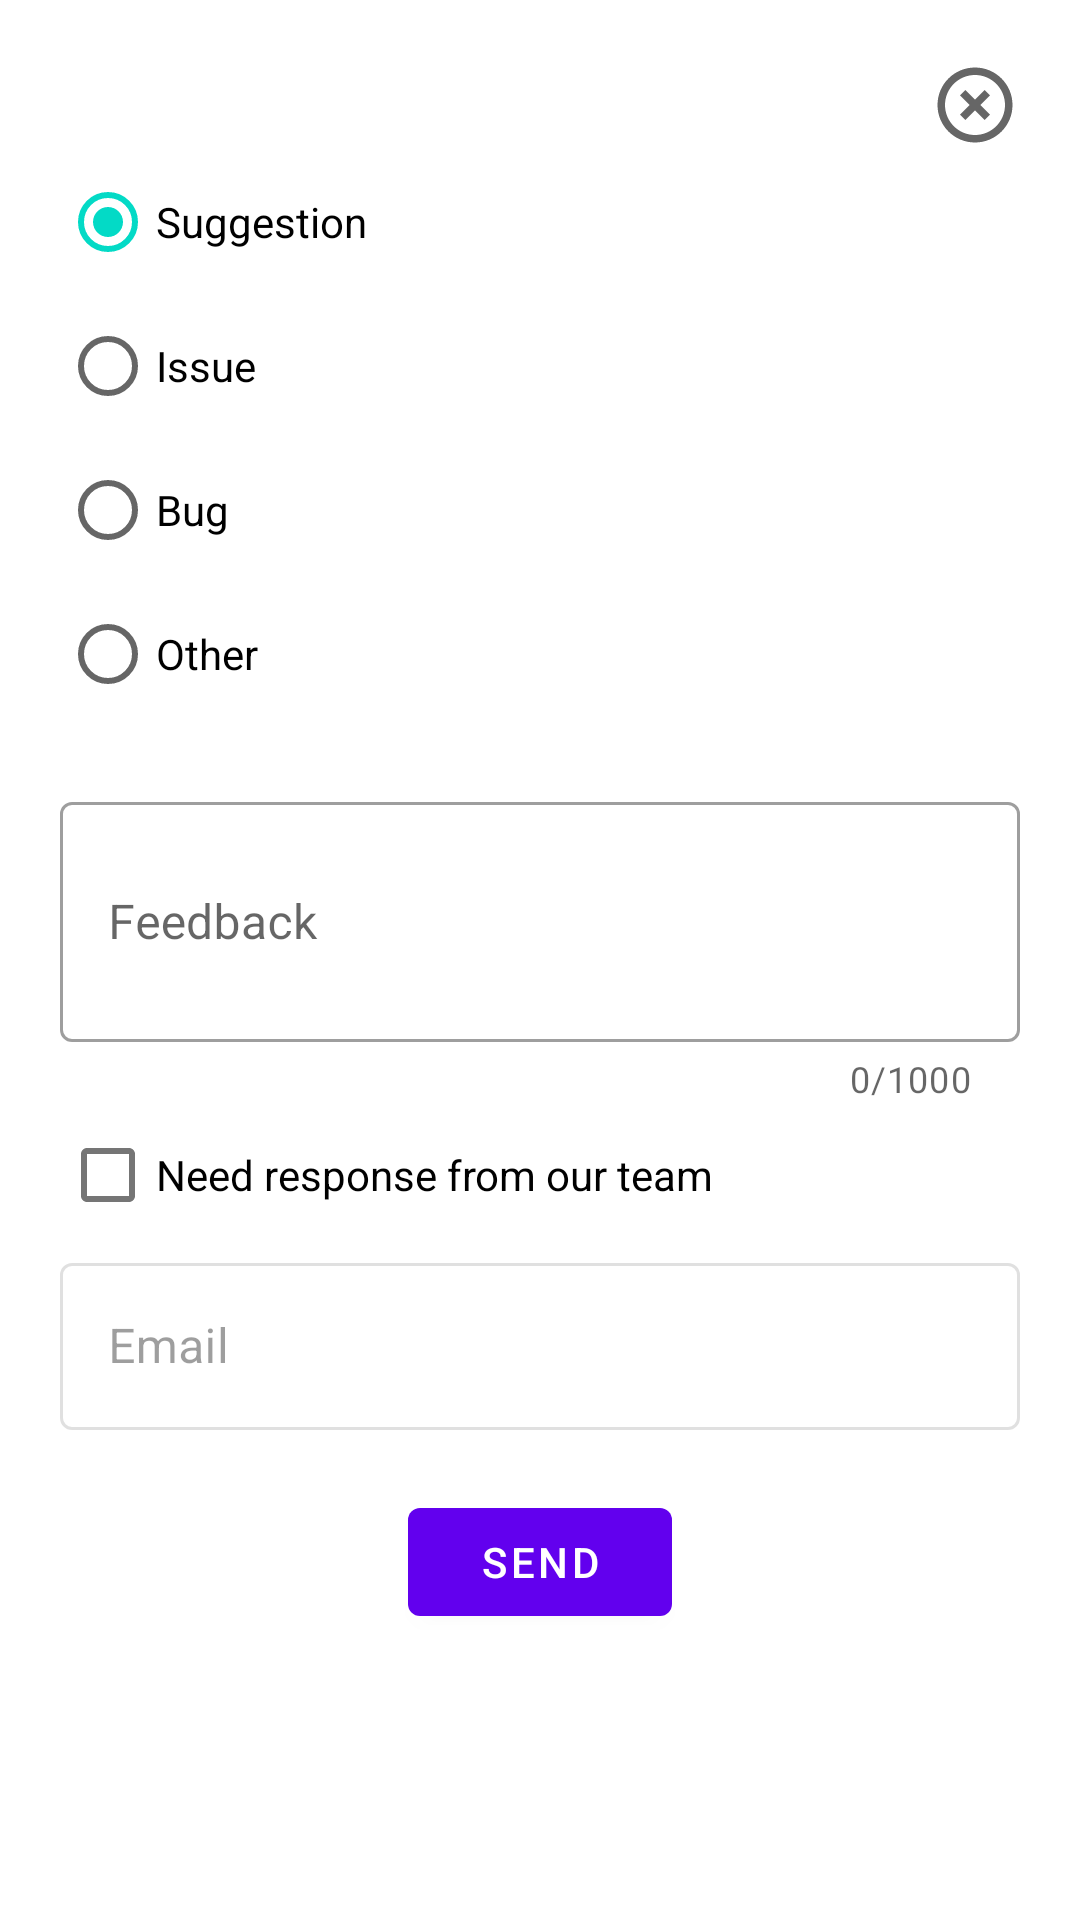

Where to tap for icons on this 1080 × 1920 app screen, as point (x, y):
close: point (975, 105)
